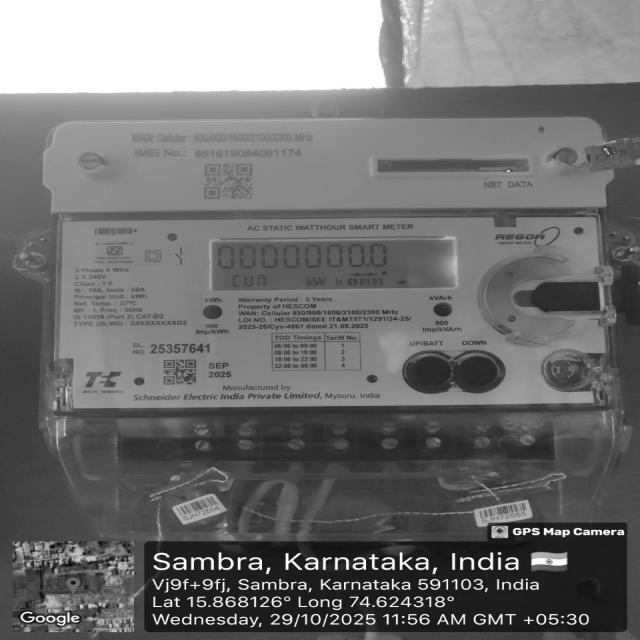meter: (44, 122, 609, 407)
